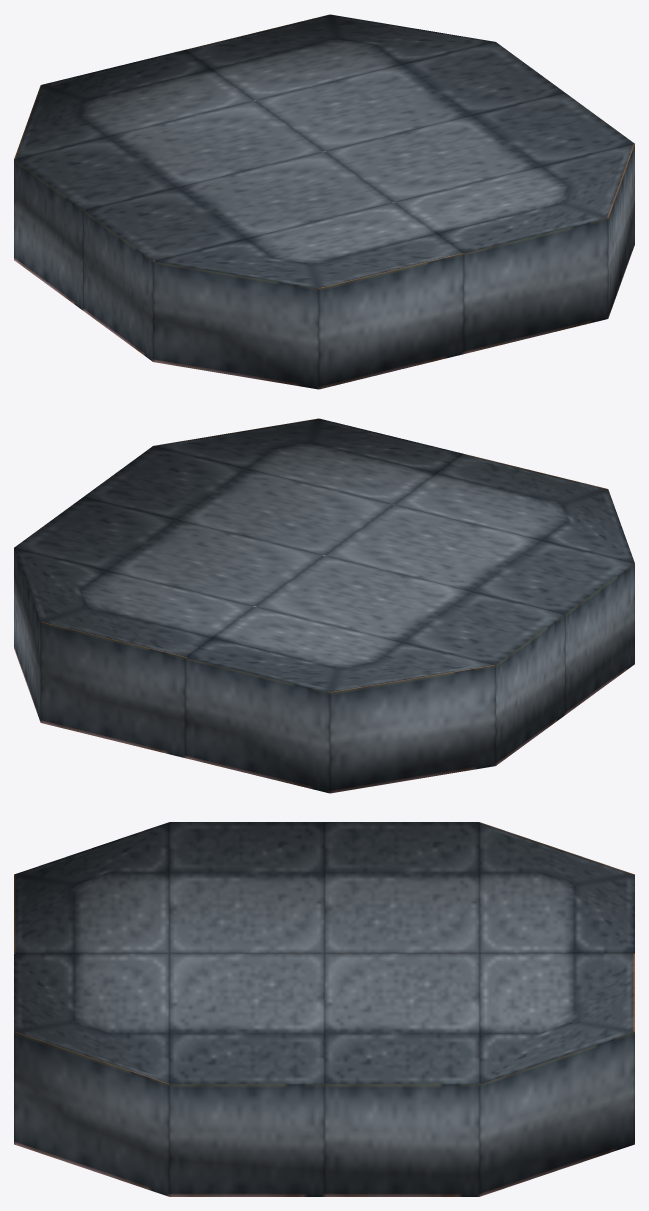
The picture shows the model from 3 angles, top to bottom: view 1: azimuth 30°, elevation 25°; view 2: azimuth 150°, elevation 25°; view 3: azimuth 270°, elevation 25°; orthographic projection. The views are drawn at different scales.
Visible parts, largest first — view 1: T1L5M009_13; view 2: T1L5M009_13; view 3: T1L5M009_13.
Boxes of the visible parts, bbox=[...] form: T1L5M009_13: bbox=[14, 14, 634, 389]; T1L5M009_13: bbox=[14, 418, 634, 793]; T1L5M009_13: bbox=[14, 822, 634, 1196].
Size of the model in its own units: 2 by 0.3994 by 2.
